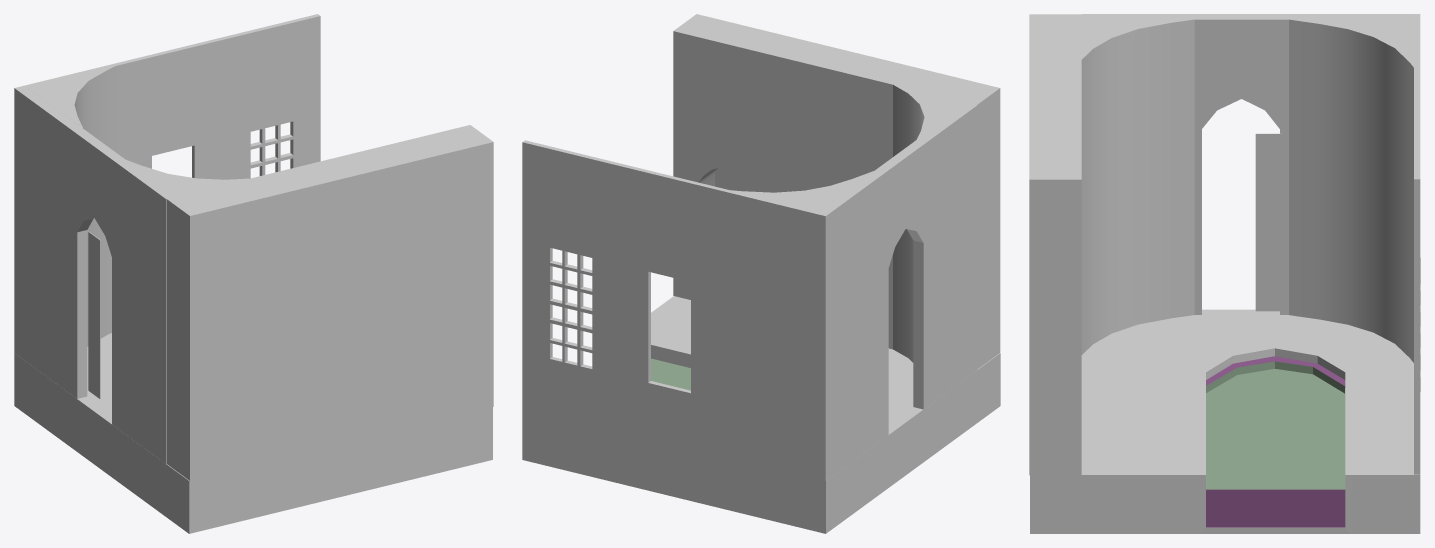
File: Spa_piscine.FBX
3 renders of one model, left to right at view 1: azimuth 30°, elevation 25°; view 2: azimuth 150°, elevation 25°; view 3: azimuth 270°, elevation 25°, orthographic. The views are drawn at different scales.
Parts seen in each view (by area): view 1: mur alcove spa, mur porte spa, sol, mur fenetre spa, bloc triangle 1, rideau spa2, bloc triangle 002, fenetre spa; view 2: mur fenetre spa, mur alcove spa, mur porte spa, sol, bloc triangle 002, fenetre spa, bloc triangle 1, eau spa entre; view 3: sol, bloc triangle 1, bloc triangle 002, mur alcove spa, eau spa entre, mur porte spa, rideau spa2, mur fenetre spa, marche piscine spa.
Boxes of the visible parts, x1,y1,x2,y2 form: mur alcove spa: [166, 125, 493, 480]; mur porte spa: [14, 85, 175, 463]; sol: [14, 333, 492, 533]; mur fenetre spa: [25, 14, 320, 179]; bloc triangle 1: [27, 61, 124, 346]; rideau spa2: [88, 231, 100, 399]; bloc triangle 002: [122, 158, 275, 200]; fenetre spa: [250, 124, 293, 175]; mur fenetre spa: [522, 140, 815, 478]; mur alcove spa: [673, 14, 1000, 369]; mur porte spa: [815, 103, 977, 480]; sol: [522, 296, 1000, 533]; bloc triangle 002: [873, 75, 973, 362]; fenetre spa: [549, 251, 592, 366]; bloc triangle 1: [716, 171, 873, 213]; eau spa entre: [651, 358, 690, 390]; sol: [1030, 309, 1420, 533]; bloc triangle 1: [1289, 19, 1419, 362]; bloc triangle 002: [1070, 18, 1199, 354]; mur alcove spa: [1029, 14, 1081, 475]; eau spa entre: [1206, 369, 1345, 527]; mur porte spa: [1081, 14, 1420, 314]; rideau spa2: [1255, 133, 1281, 311]; mur fenetre spa: [1414, 19, 1420, 474]; marche piscine spa: [1206, 356, 1345, 393].
Bounding box in the file's own units: 601 × 600 × 600.
